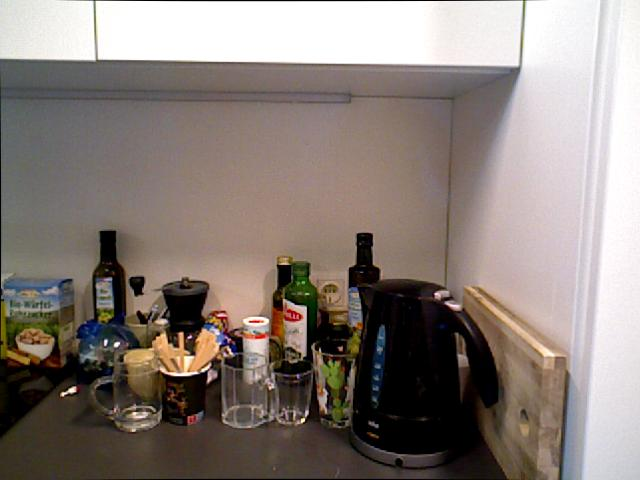bench: (91, 231, 129, 356), (282, 260, 318, 367), (347, 231, 380, 333), (271, 255, 293, 352)
bird: (15, 327, 60, 363)
handbag: (88, 348, 163, 433), (309, 335, 361, 430), (219, 351, 275, 428), (158, 355, 211, 426), (268, 358, 313, 426)
hot dog: (555, 0, 639, 479)
